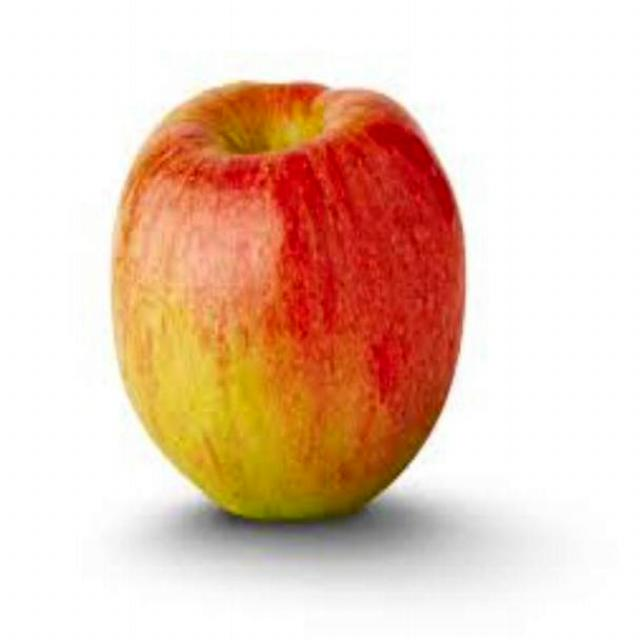HEALTHY: (92, 47, 505, 530)
